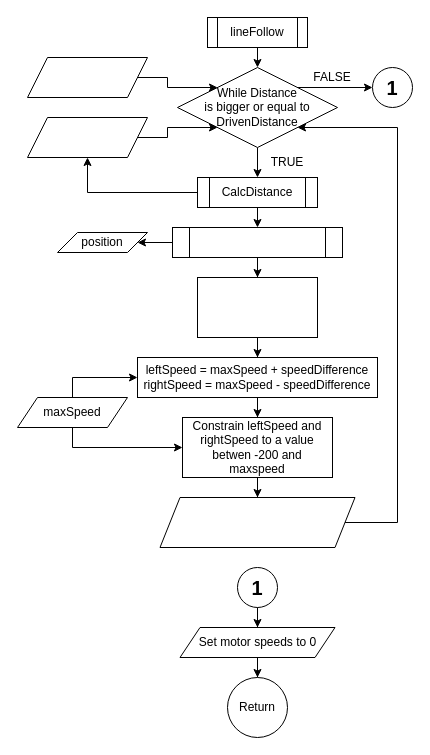
Some shapes in this 430 by 755 pixel diagram are drawn without their labels. Here are the shapes that lost their labels. From the top down, the box of each, then its label:
(26, 56, 148, 98): Distance
(26, 116, 148, 158): DrivenDistance
(172, 226, 342, 258): lineSensors.readLine
(196, 276, 318, 338): Calculate speedDifference via PID calculation using position
(159, 496, 355, 548): Set right motor to rightSpeed Set left motor to leftSpeed
